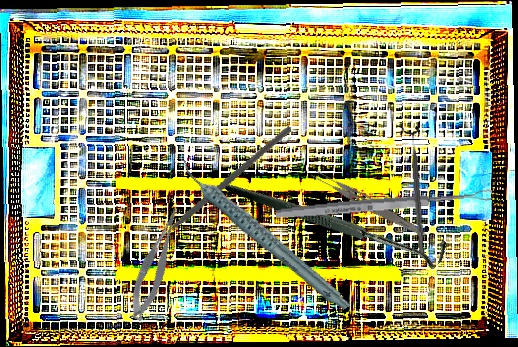Chopper: (141, 93, 293, 273)
Dressing Forceps: (308, 166, 430, 240)
Fixation Ring: (400, 125, 432, 256)
Handpiece: (178, 129, 353, 339)
Hook Surgical: (223, 101, 454, 336)
Micro Scissor: (119, 205, 194, 323)
Surgical Spoon: (275, 188, 493, 221)
